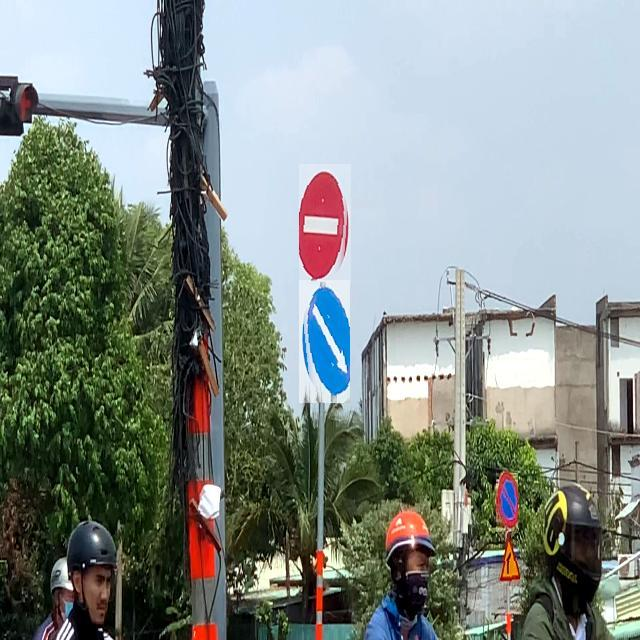P-102: (299, 165, 351, 285)
P-131a: (496, 473, 518, 532)
R-302a: (299, 280, 350, 403)
W-201b: (497, 532, 521, 586)
